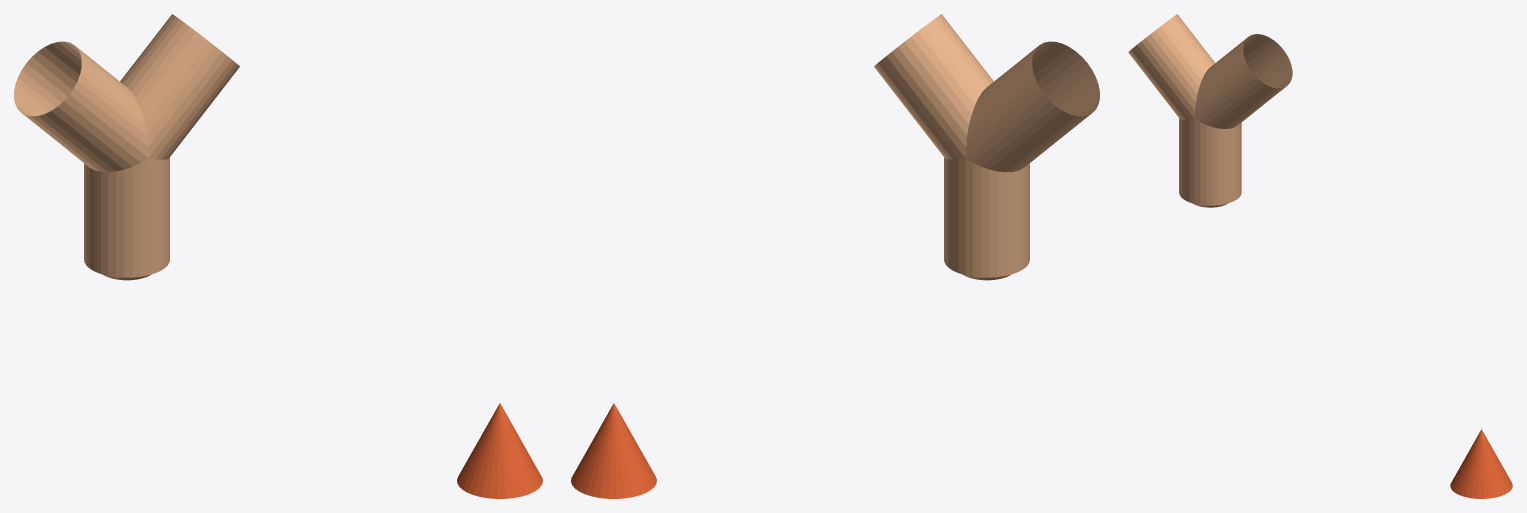
Rendered from beer2.gltf.
3 renders of one model, left to right at view 1: azimuth 30°, elevation 25°; view 2: azimuth 150°, elevation 25°; view 3: azimuth 330°, elevation 25°, orthographic. The views are drawn at different scales.
Parts seen in each view (by area): view 1: Wye Joint, Cone; view 2: Wye Joint, Cone; view 3: Wye Joint, Cone.
Part boxes in pixels (box(x1,y1,x2,y2)): Wye Joint: box(14, 14, 239, 277); Cone: box(457, 403, 542, 498); Wye Joint: box(874, 14, 1099, 277); Cone: box(571, 403, 656, 498); Wye Joint: box(1128, 14, 1292, 205); Cone: box(1450, 429, 1512, 498).
Size of the model in its own units: 13.83 by 13.83 by 2.
